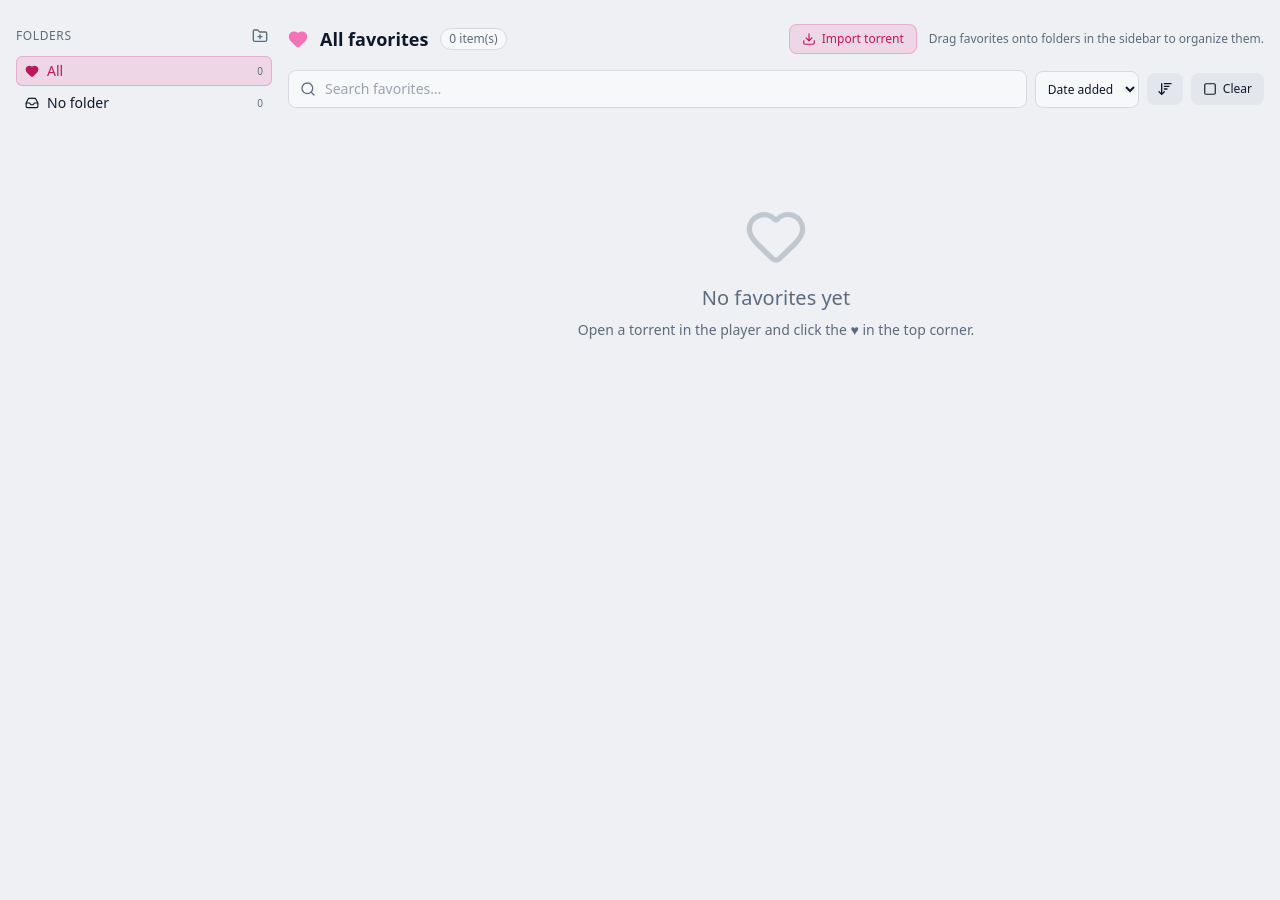
Test: FavoritesPage — import sheet › "also download" comes unchecked by default
Click the button "Import torrent".
click(853, 39)  # box top-left (789, 24), bottom-right (917, 54)
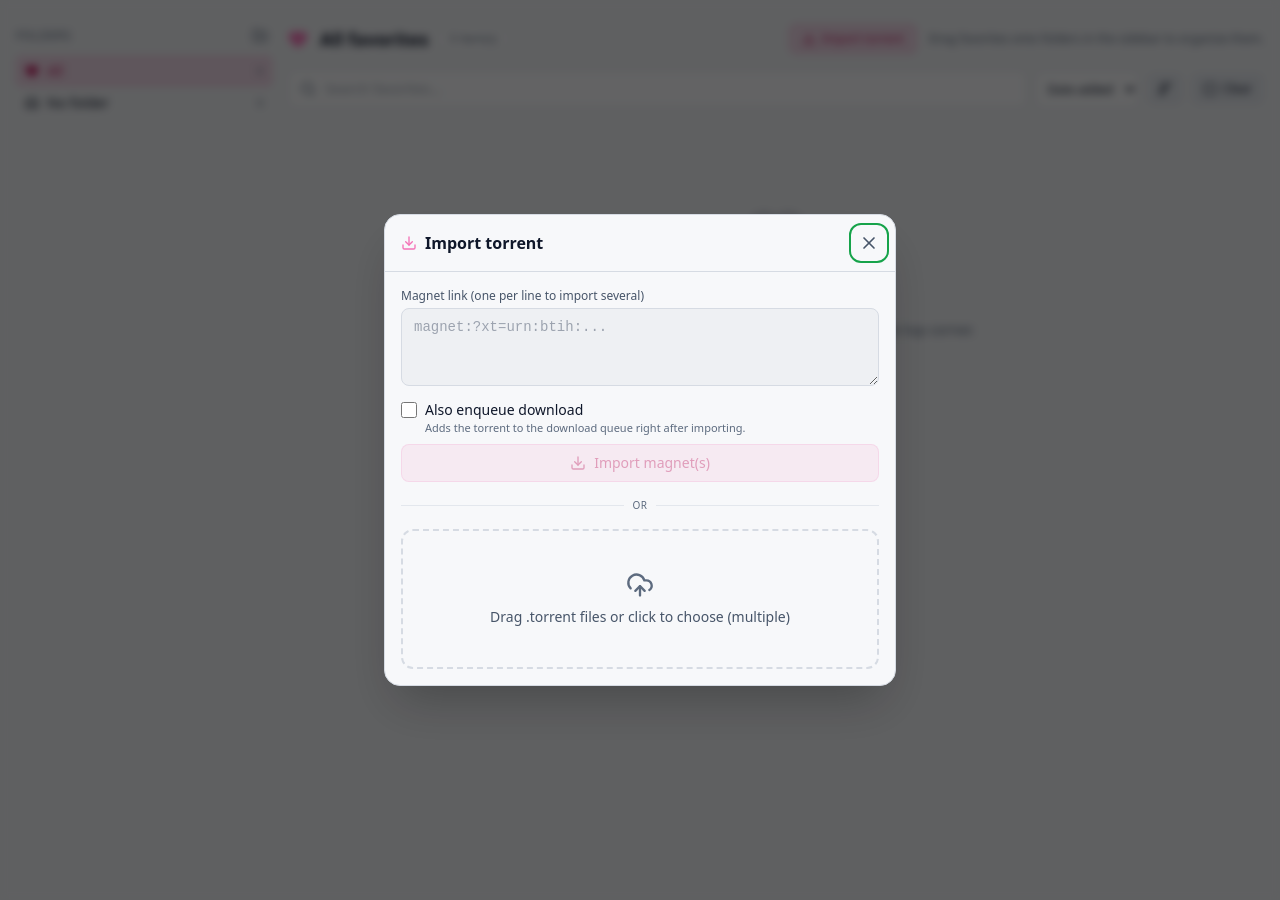
Expected: the checkbox is not checked, top-left (401, 402), bottom-right (417, 418)
